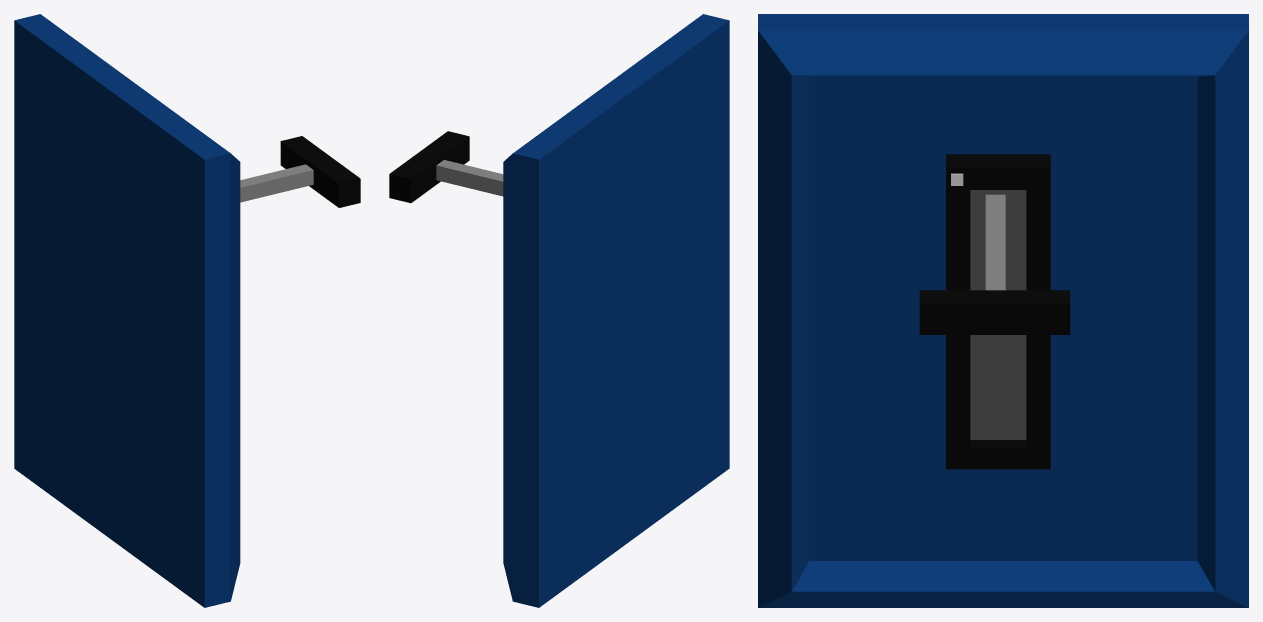
The model's file is power.fbx.
The picture shows the model from 3 angles, left to right: view 1: azimuth 30°, elevation 25°; view 2: azimuth 150°, elevation 25°; view 3: azimuth 270°, elevation 25°; orthographic projection. The views are drawn at different scales.
Visible parts, largest first — view 1: Cube, Cube.003; view 2: Cube, Cube.003; view 3: Cube, Cube.001, Cube.003.
Boxes of the visible parts, <box> form: Cube: <box>14,14,240,607</box>; Cube.003: <box>240,136,360,207</box>; Cube: <box>503,14,729,607</box>; Cube.003: <box>389,131,503,203</box>; Cube: <box>758,14,1248,607</box>; Cube.001: <box>946,154,1050,469</box>; Cube.003: <box>919,194,1070,334</box>.
Bounding box in the file's own units: 297 × 582 × 448.
